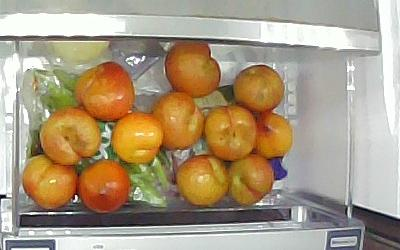prune: (38, 107, 102, 166), (76, 62, 135, 121), (165, 41, 222, 97), (22, 156, 78, 209), (111, 111, 164, 165), (205, 106, 257, 161), (78, 159, 130, 213), (154, 93, 203, 150), (175, 155, 228, 206), (233, 64, 285, 113), (227, 155, 275, 208), (255, 113, 295, 158)
